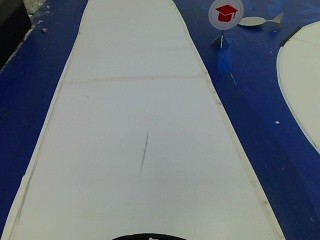school: (207, 0, 242, 31)
